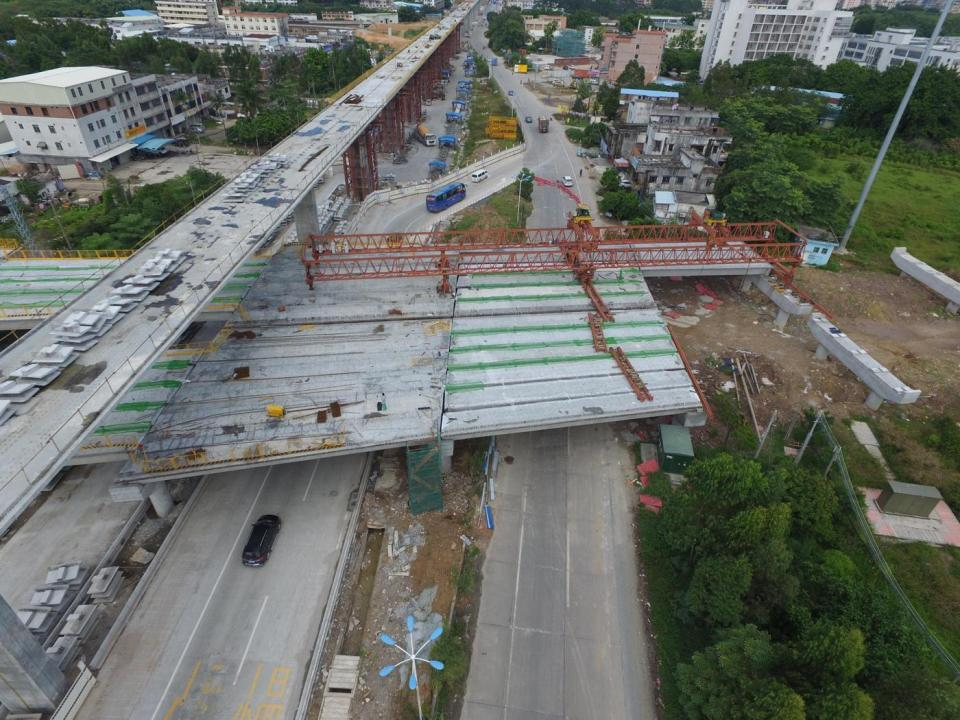bus: (424, 181, 466, 212)
car: (241, 514, 282, 566), (605, 209, 620, 219), (151, 146, 166, 154), (619, 180, 636, 187), (563, 176, 572, 186), (189, 127, 203, 133), (572, 74, 583, 80), (554, 82, 564, 86), (526, 117, 532, 122), (562, 66, 569, 70), (509, 90, 514, 94)
truck: (539, 115, 549, 132), (545, 65, 554, 70), (491, 58, 497, 65)
van: (472, 170, 488, 182), (190, 124, 204, 131), (552, 79, 564, 84), (588, 79, 599, 84), (426, 98, 432, 106), (570, 65, 574, 69), (488, 57, 491, 61)
